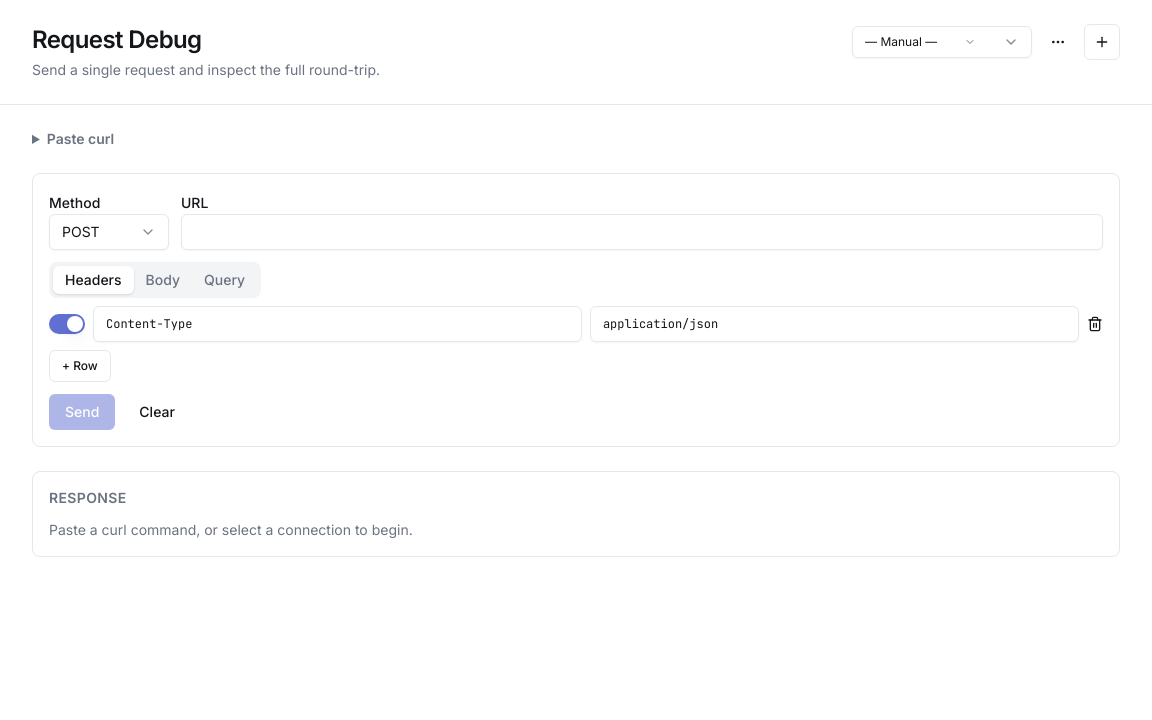
Test: RequestDebugPage (happy path) › stores lastError when the proxy reports failure
The width and height of the screenshot is (1152, 720).
Type "http://bad-host/" into the field labelled "URL" at (642, 232), box [181,214,1103,250]
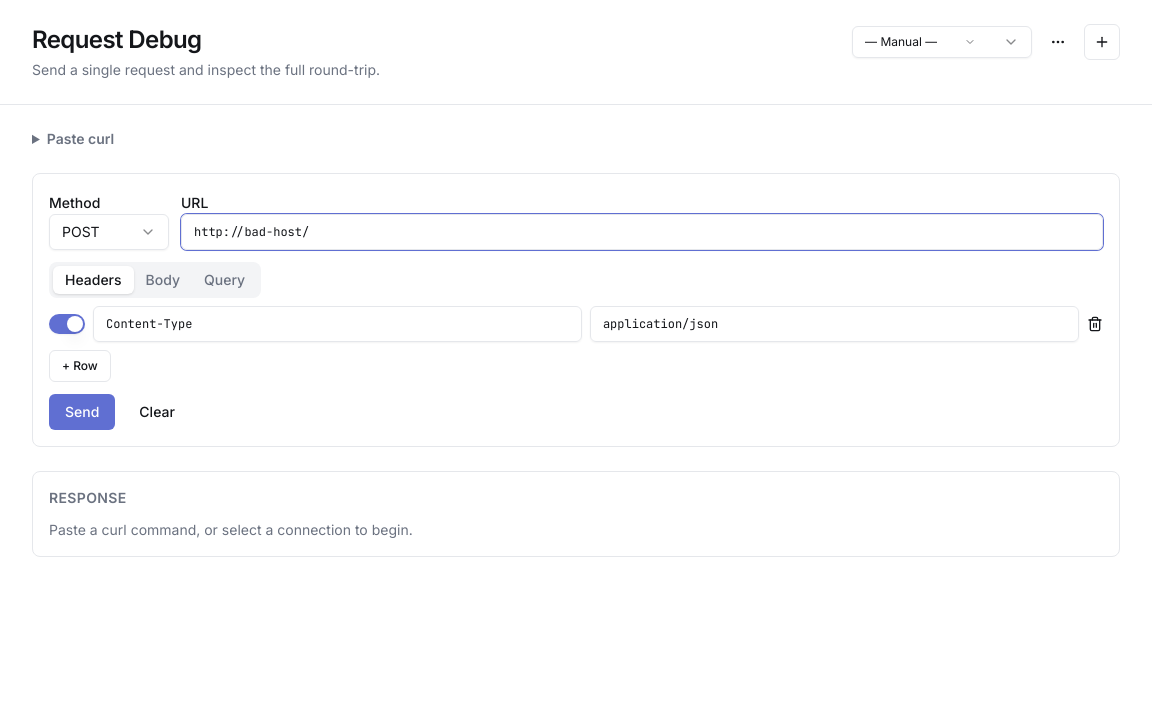
Click the button "Send" at (82, 412), box [49,394,115,430]
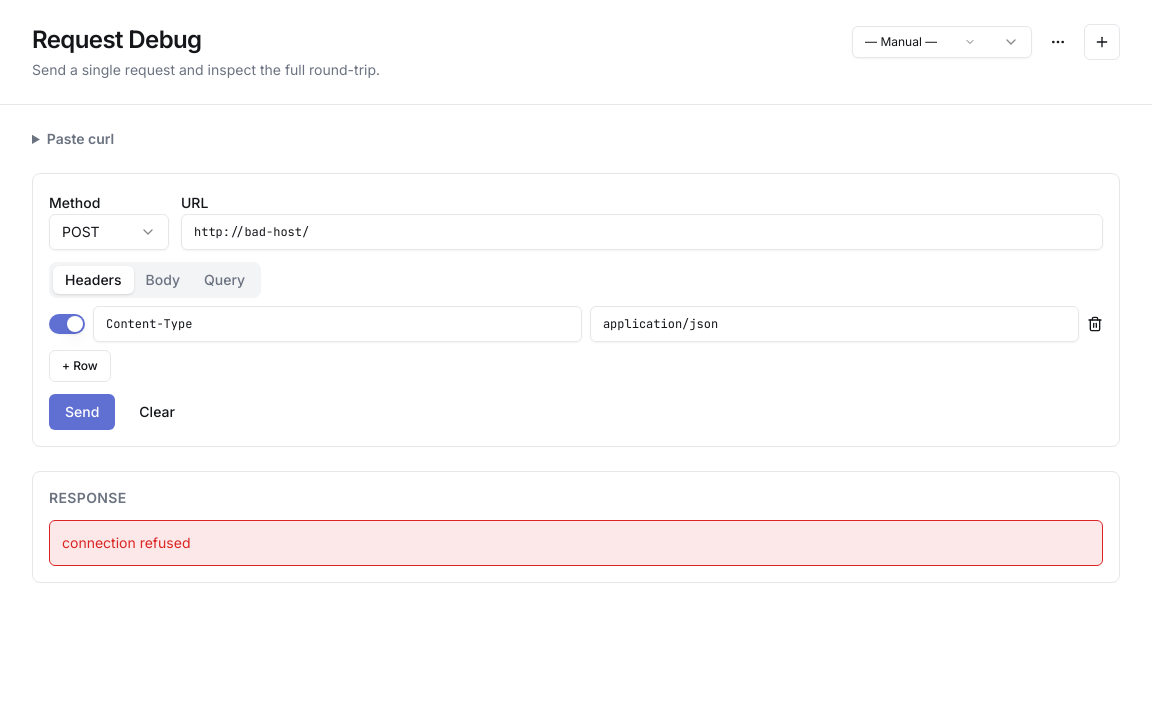
Expected: the text "connection refused" is shown, [49,520,1103,566]
